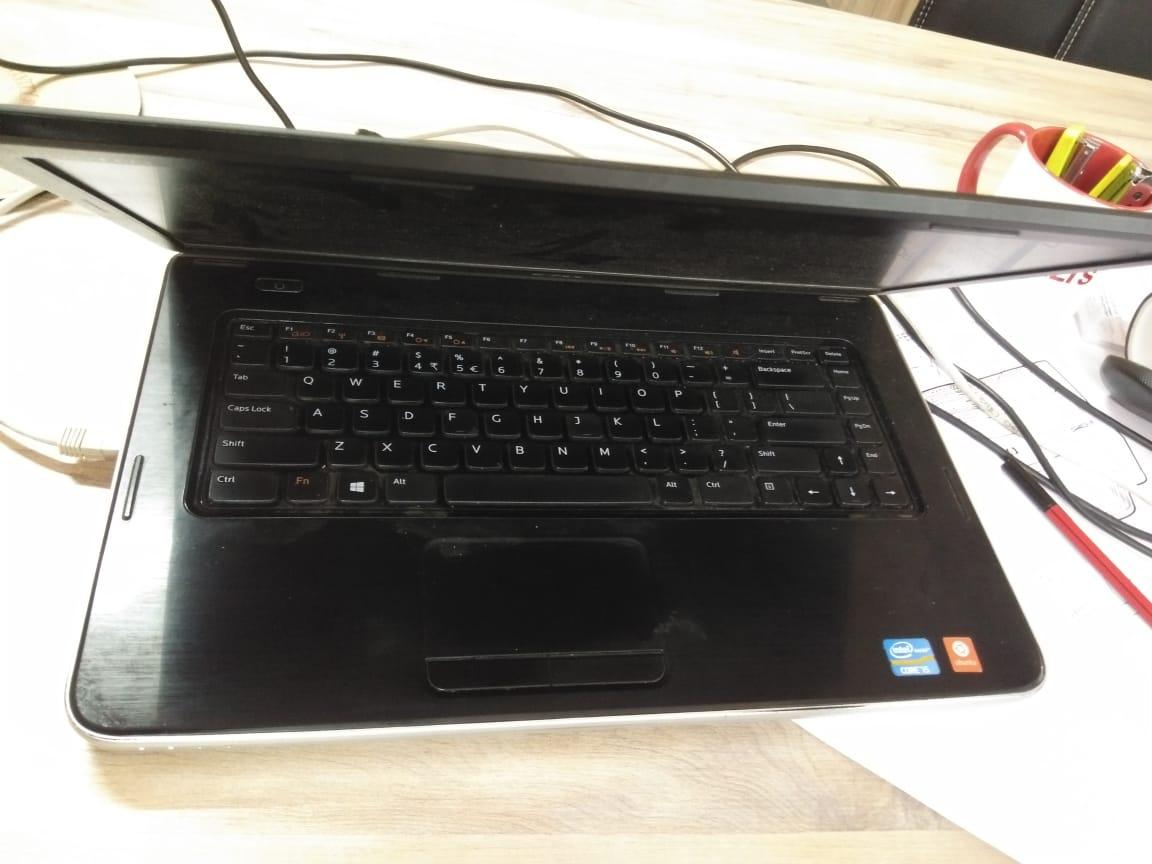laptop: (1, 74, 1152, 770)
